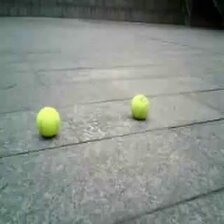tennis: (36, 108, 60, 137), (132, 95, 150, 116)
